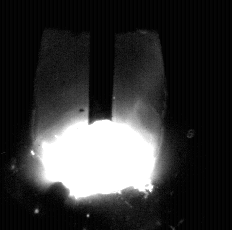arame: (89, 0, 114, 123)
poca: (32, 0, 163, 230)
